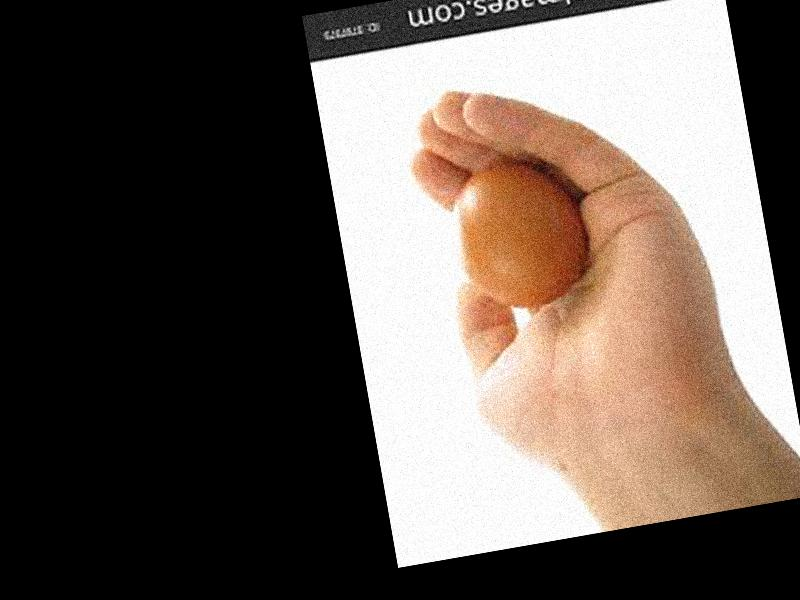Eggs: (444, 142, 592, 319)
